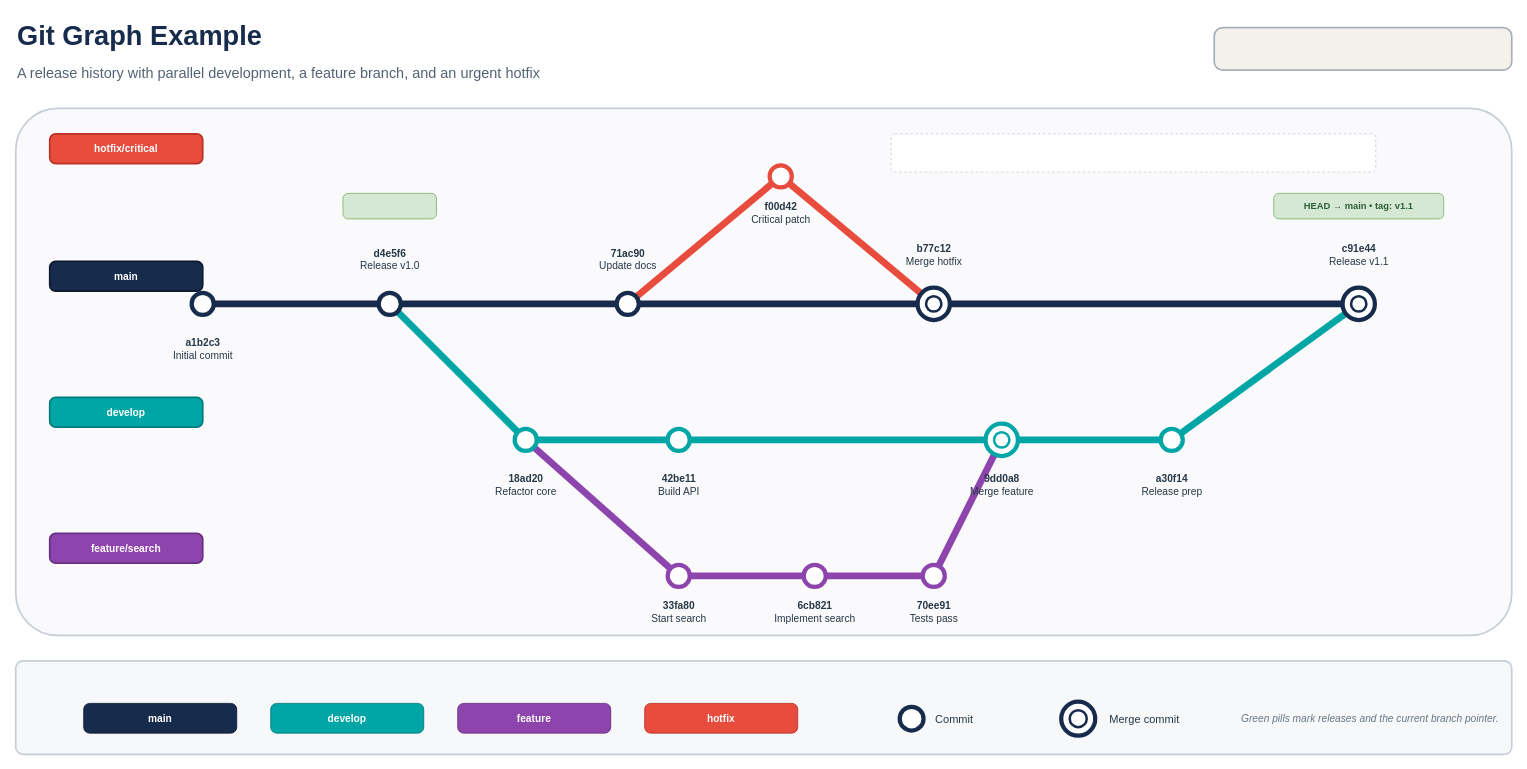
The diagram is 1527 pixels wide and 769 high, and some of its shapes have lost their labels. The box of each missing label's shape, as (x1, y1, x2, y2) in pixels:
Branches split from a commit and reconnect at double-ring merge commits.: (890, 133, 1376, 172)
LEGEND: (14, 660, 1512, 755)
tag: v1.0: (342, 193, 436, 219)
TIME FLOWS LEFT → RIGHT: (1213, 26, 1512, 71)
